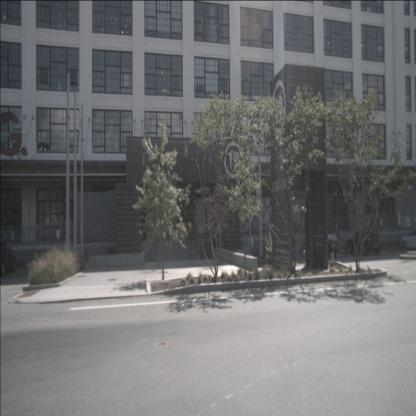human-pedestrian-adult: (246, 232, 254, 264), (335, 221, 340, 252)
vehicle-car: (308, 230, 340, 258), (346, 231, 381, 256), (0, 241, 16, 277), (400, 230, 416, 250)
